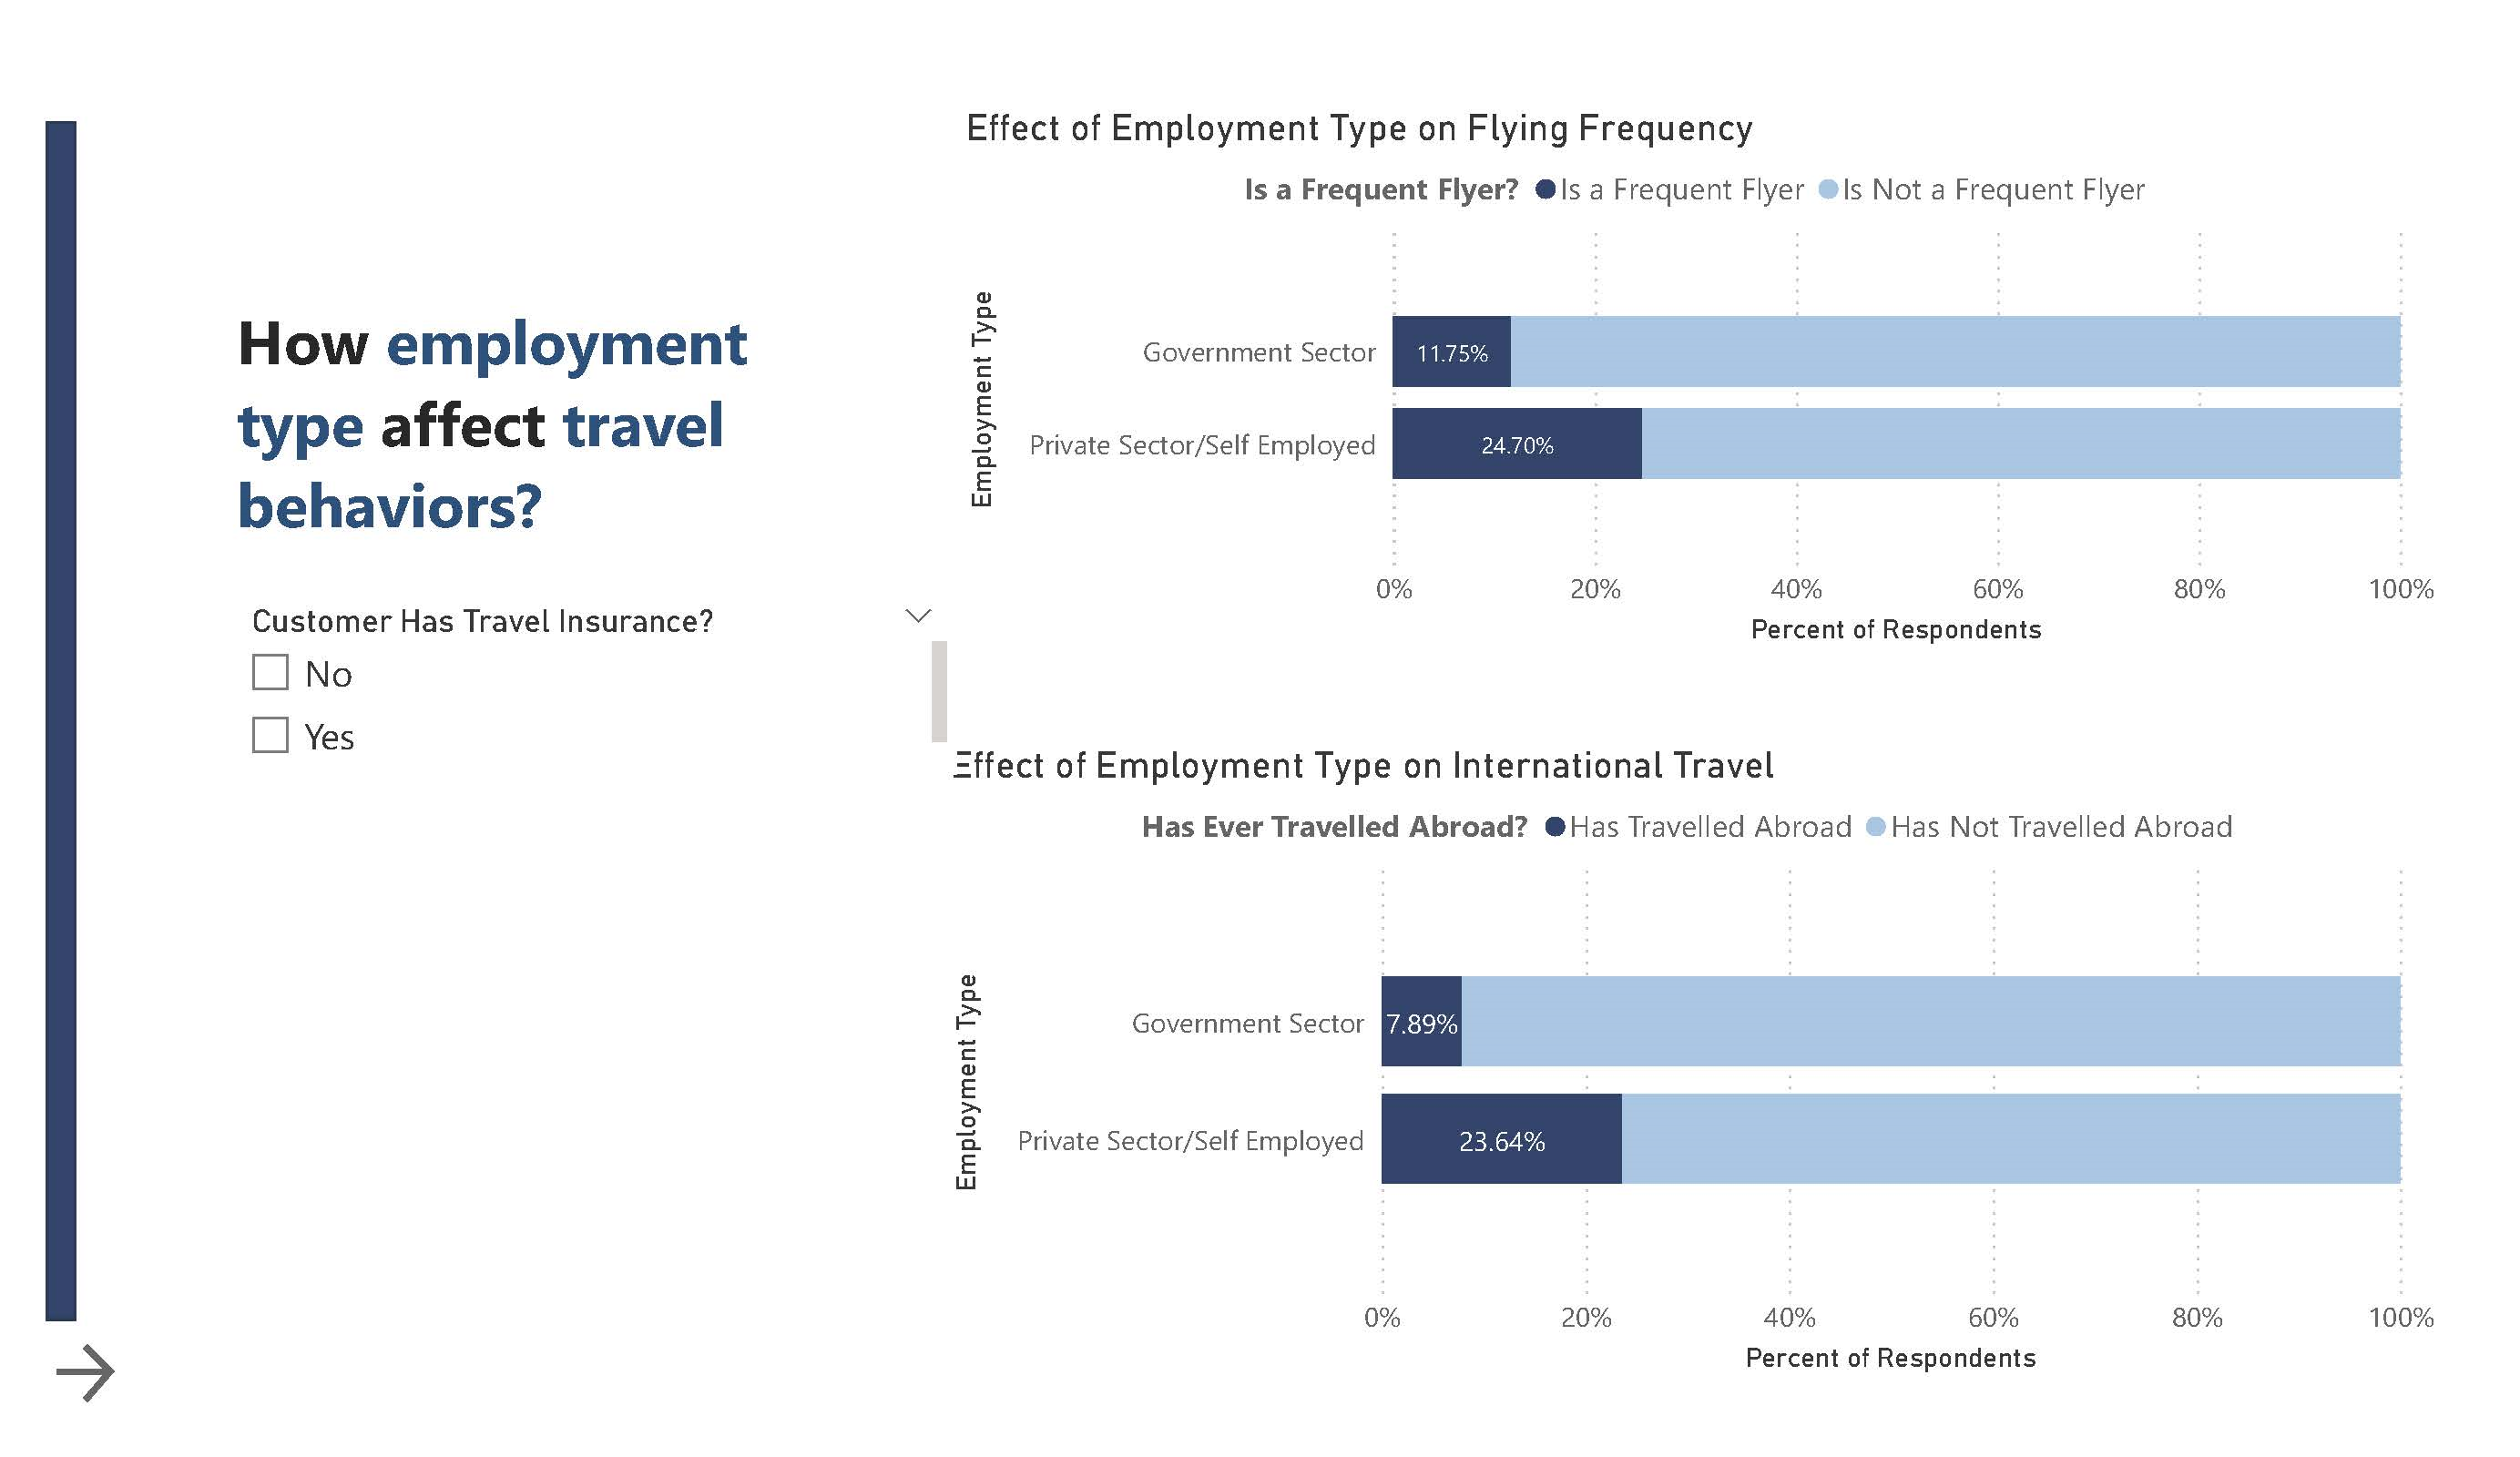

This screenshot's page, from the dashboard's own definition file:
{"tool":"powerbi","page":{"name":"Employment type","canvas":[1280,720],"ordinal":4},"visuals":[{"type":"hundredPercentStackedBarChart","title":"Effect of Employment Type on International Travel","fields":{"Category":["travel_insurance.Employment Type"],"Y":["travel_insurance.COUNT"],"Series":["travel_insurance.EverTravelledAbroad"]},"box":[472,368,792,336],"z":0},{"type":"hundredPercentStackedBarChart","title":"Effect of Employment Type on Flying Frequency","fields":{"Category":["travel_insurance.Employment Type"],"Y":["travel_insurance.COUNT"],"Series":["travel_insurance.FrequencySorted"]},"box":[480,32,784,288],"z":1000},{"type":"slicer","fields":{"Values":["travel_insurance.TravelInsurance"]},"box":[96,288,384,96],"z":2000},{"type":"shape","box":[0,40,16,632],"z":3000},{"type":"textbox","box":[96,128,352,152],"z":4000},{"type":"actionButton","box":[0,680,48,40],"z":4001}]}

Visuals, with their boxes in screenshot pixels (x1, y1, x2, y2):
"Effect of Employment Type on International Travel" hundredPercentStackedBarChart: (x1=941, y1=744, x2=2444, y2=1381)
"Effect of Employment Type on Flying Frequency" hundredPercentStackedBarChart: (x1=956, y1=107, x2=2444, y2=653)
slicer - travel_insurance.TravelInsurance: (x1=228, y1=592, x2=956, y2=774)
shape: (x1=46, y1=121, x2=76, y2=1320)
textbox: (x1=228, y1=289, x2=895, y2=576)
actionButton: (x1=46, y1=1336, x2=137, y2=1411)
